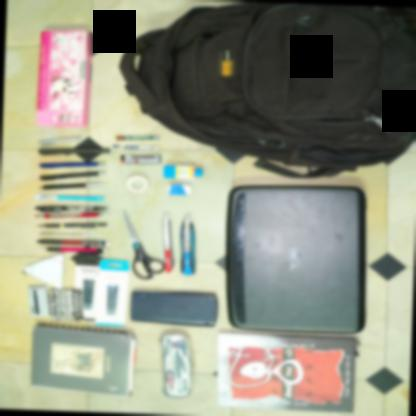backpack: (118, 2, 416, 176)
